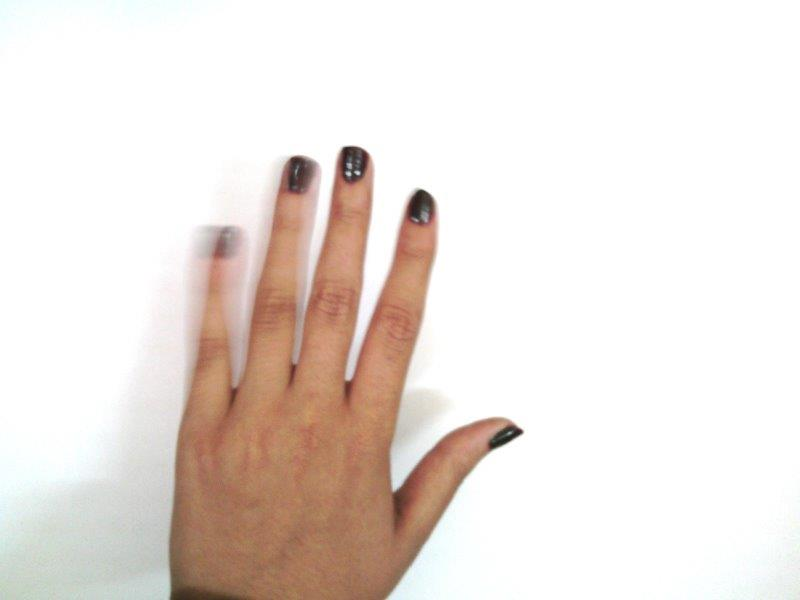hand: (169, 147, 523, 599)
